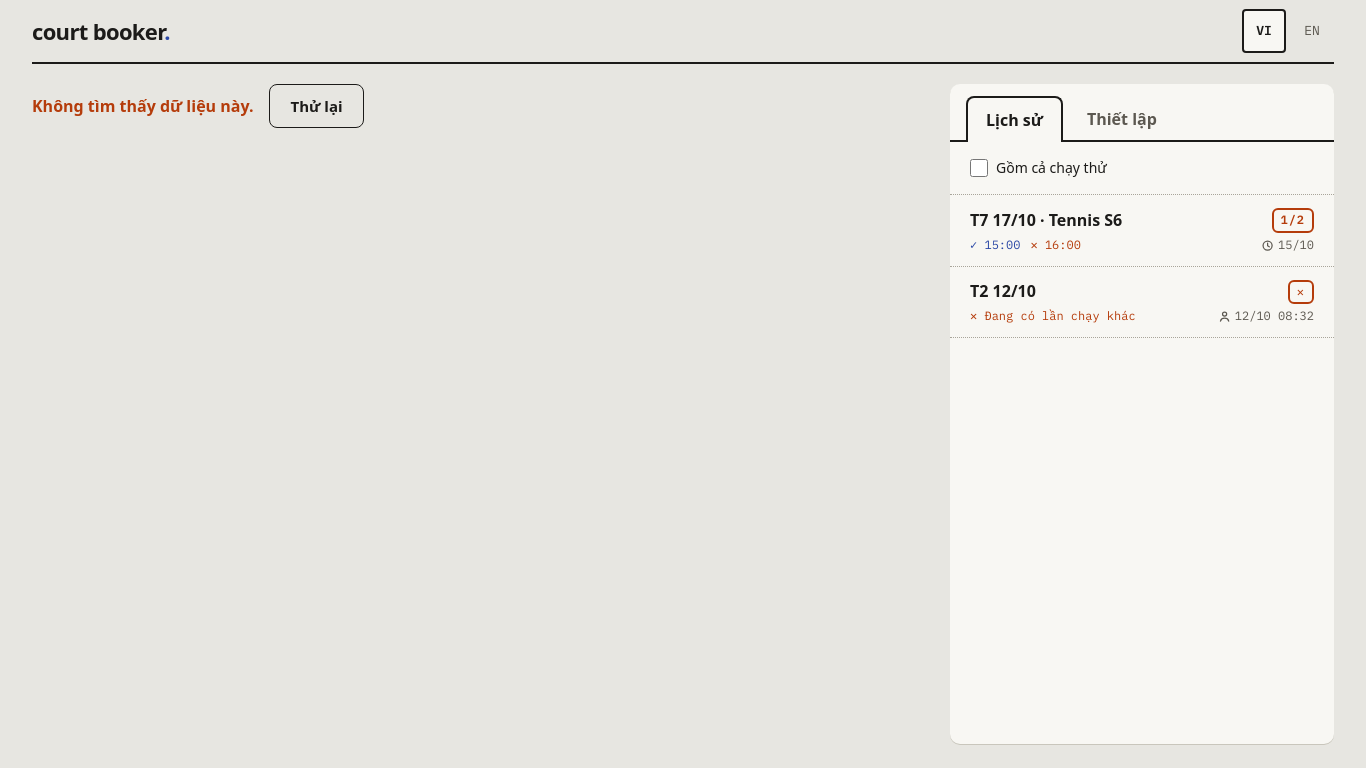
Scenario: History run › opens a run in place of the list, and goes back to it
Click the checkbox labelled "Gồm cả chạy thử" at (979, 168), box [970,159,988,177]
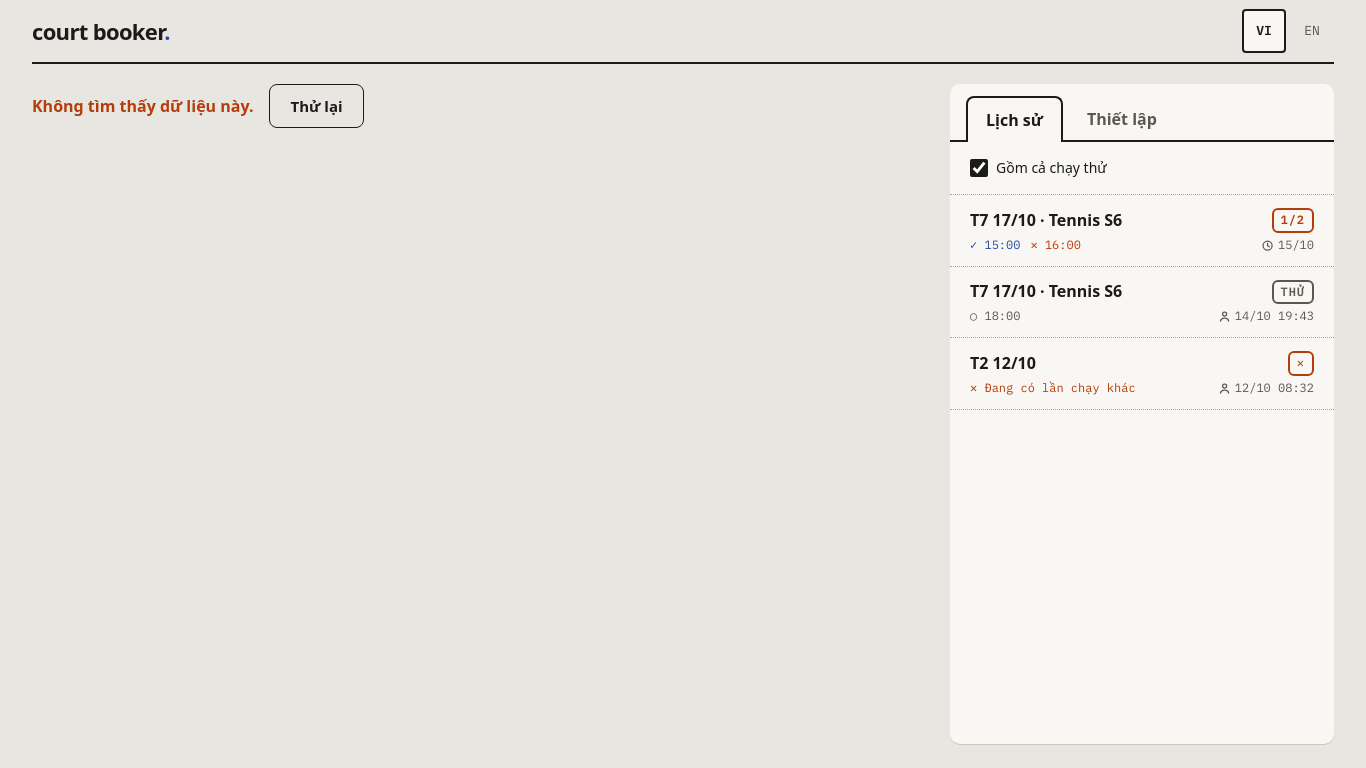
Click the link "T7 17/10 · Tennis S6 1/2 ✓ 15:00 ✕ 16:00 15/10" at (1046, 220), box [950,195,1334,266]
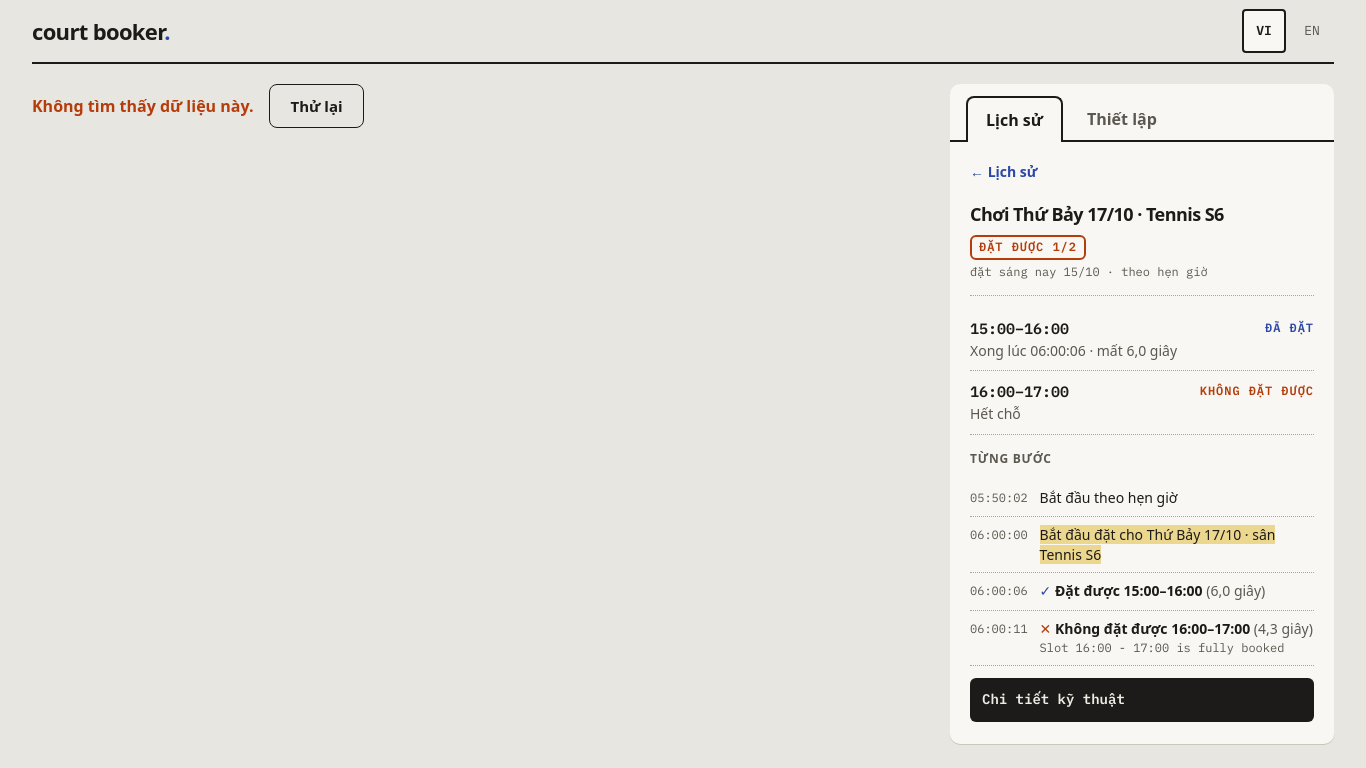
Expected: the text "ĐẶT ĐƯỢC 1/2" is shown, [970,235,1086,260]
Expected: the text "đặt sáng nay 15/10 · theo hẹn giờ" is shown, [970,264,1208,279]
Expected: the list item "15:00–16:00 ĐÃ ĐẶT Xong lúc 06:00:06 · mất 6,0 giây" is shown, [970,308,1314,371]
Click the link "← Lịch sử" at (1004, 172), box [970,162,1038,181]
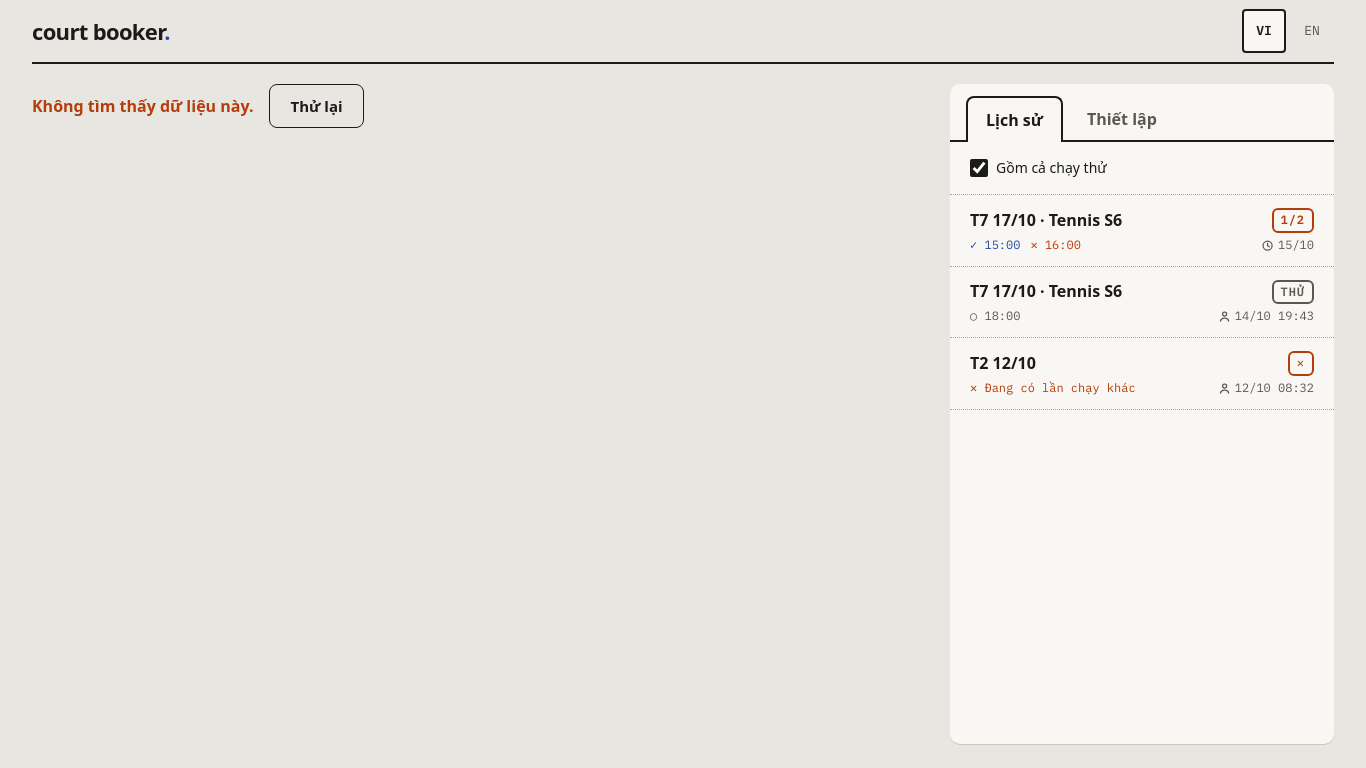
Expected: the checkbox labelled "Gồm cả chạy thử" is checked, [970,159,988,177]
